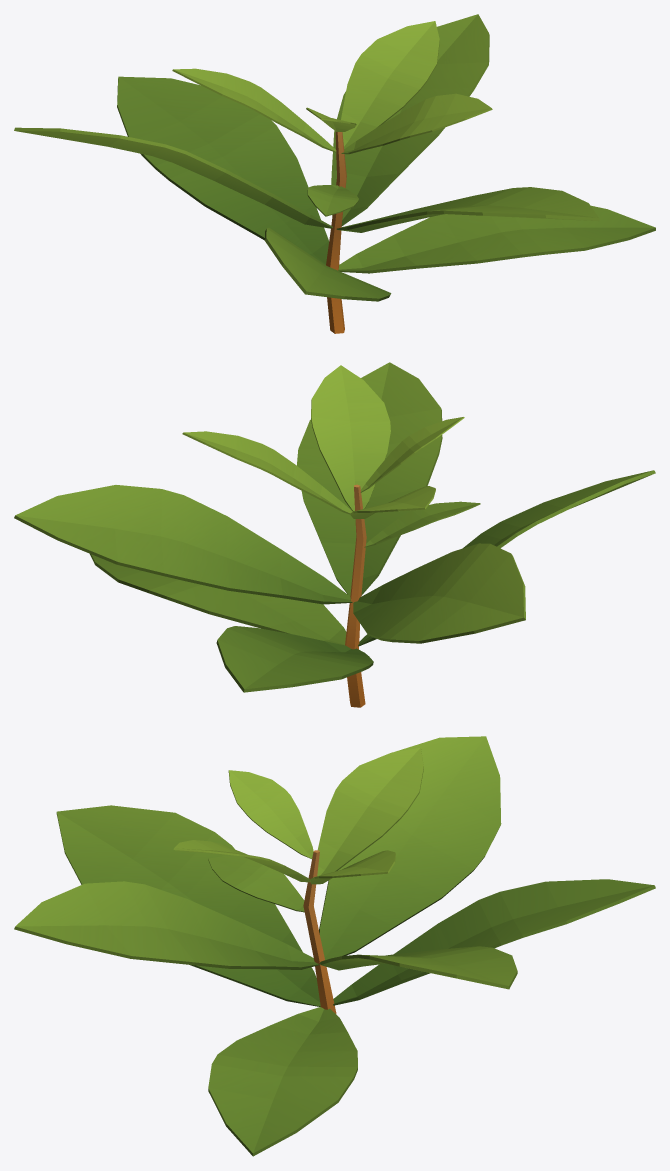
Rendered from arbusto8.fbx.
3 renders of one model, top to bottom at view 1: azimuth 30°, elevation 25°; view 2: azimuth 150°, elevation 25°; view 3: azimuth 270°, elevation 25°, orthographic. The views are drawn at different scales.
Parts seen in each view (by area): view 1: arbusto16; view 2: arbusto16; view 3: arbusto16.
Part boxes in pixels (x1=…): arbusto16: x1=14, y1=14, x2=655, y2=333; arbusto16: x1=14, y1=362, x2=655, y2=707; arbusto16: x1=14, y1=736, x2=655, y2=1156.
Size of the model in its own units: 532 by 248 by 541.
